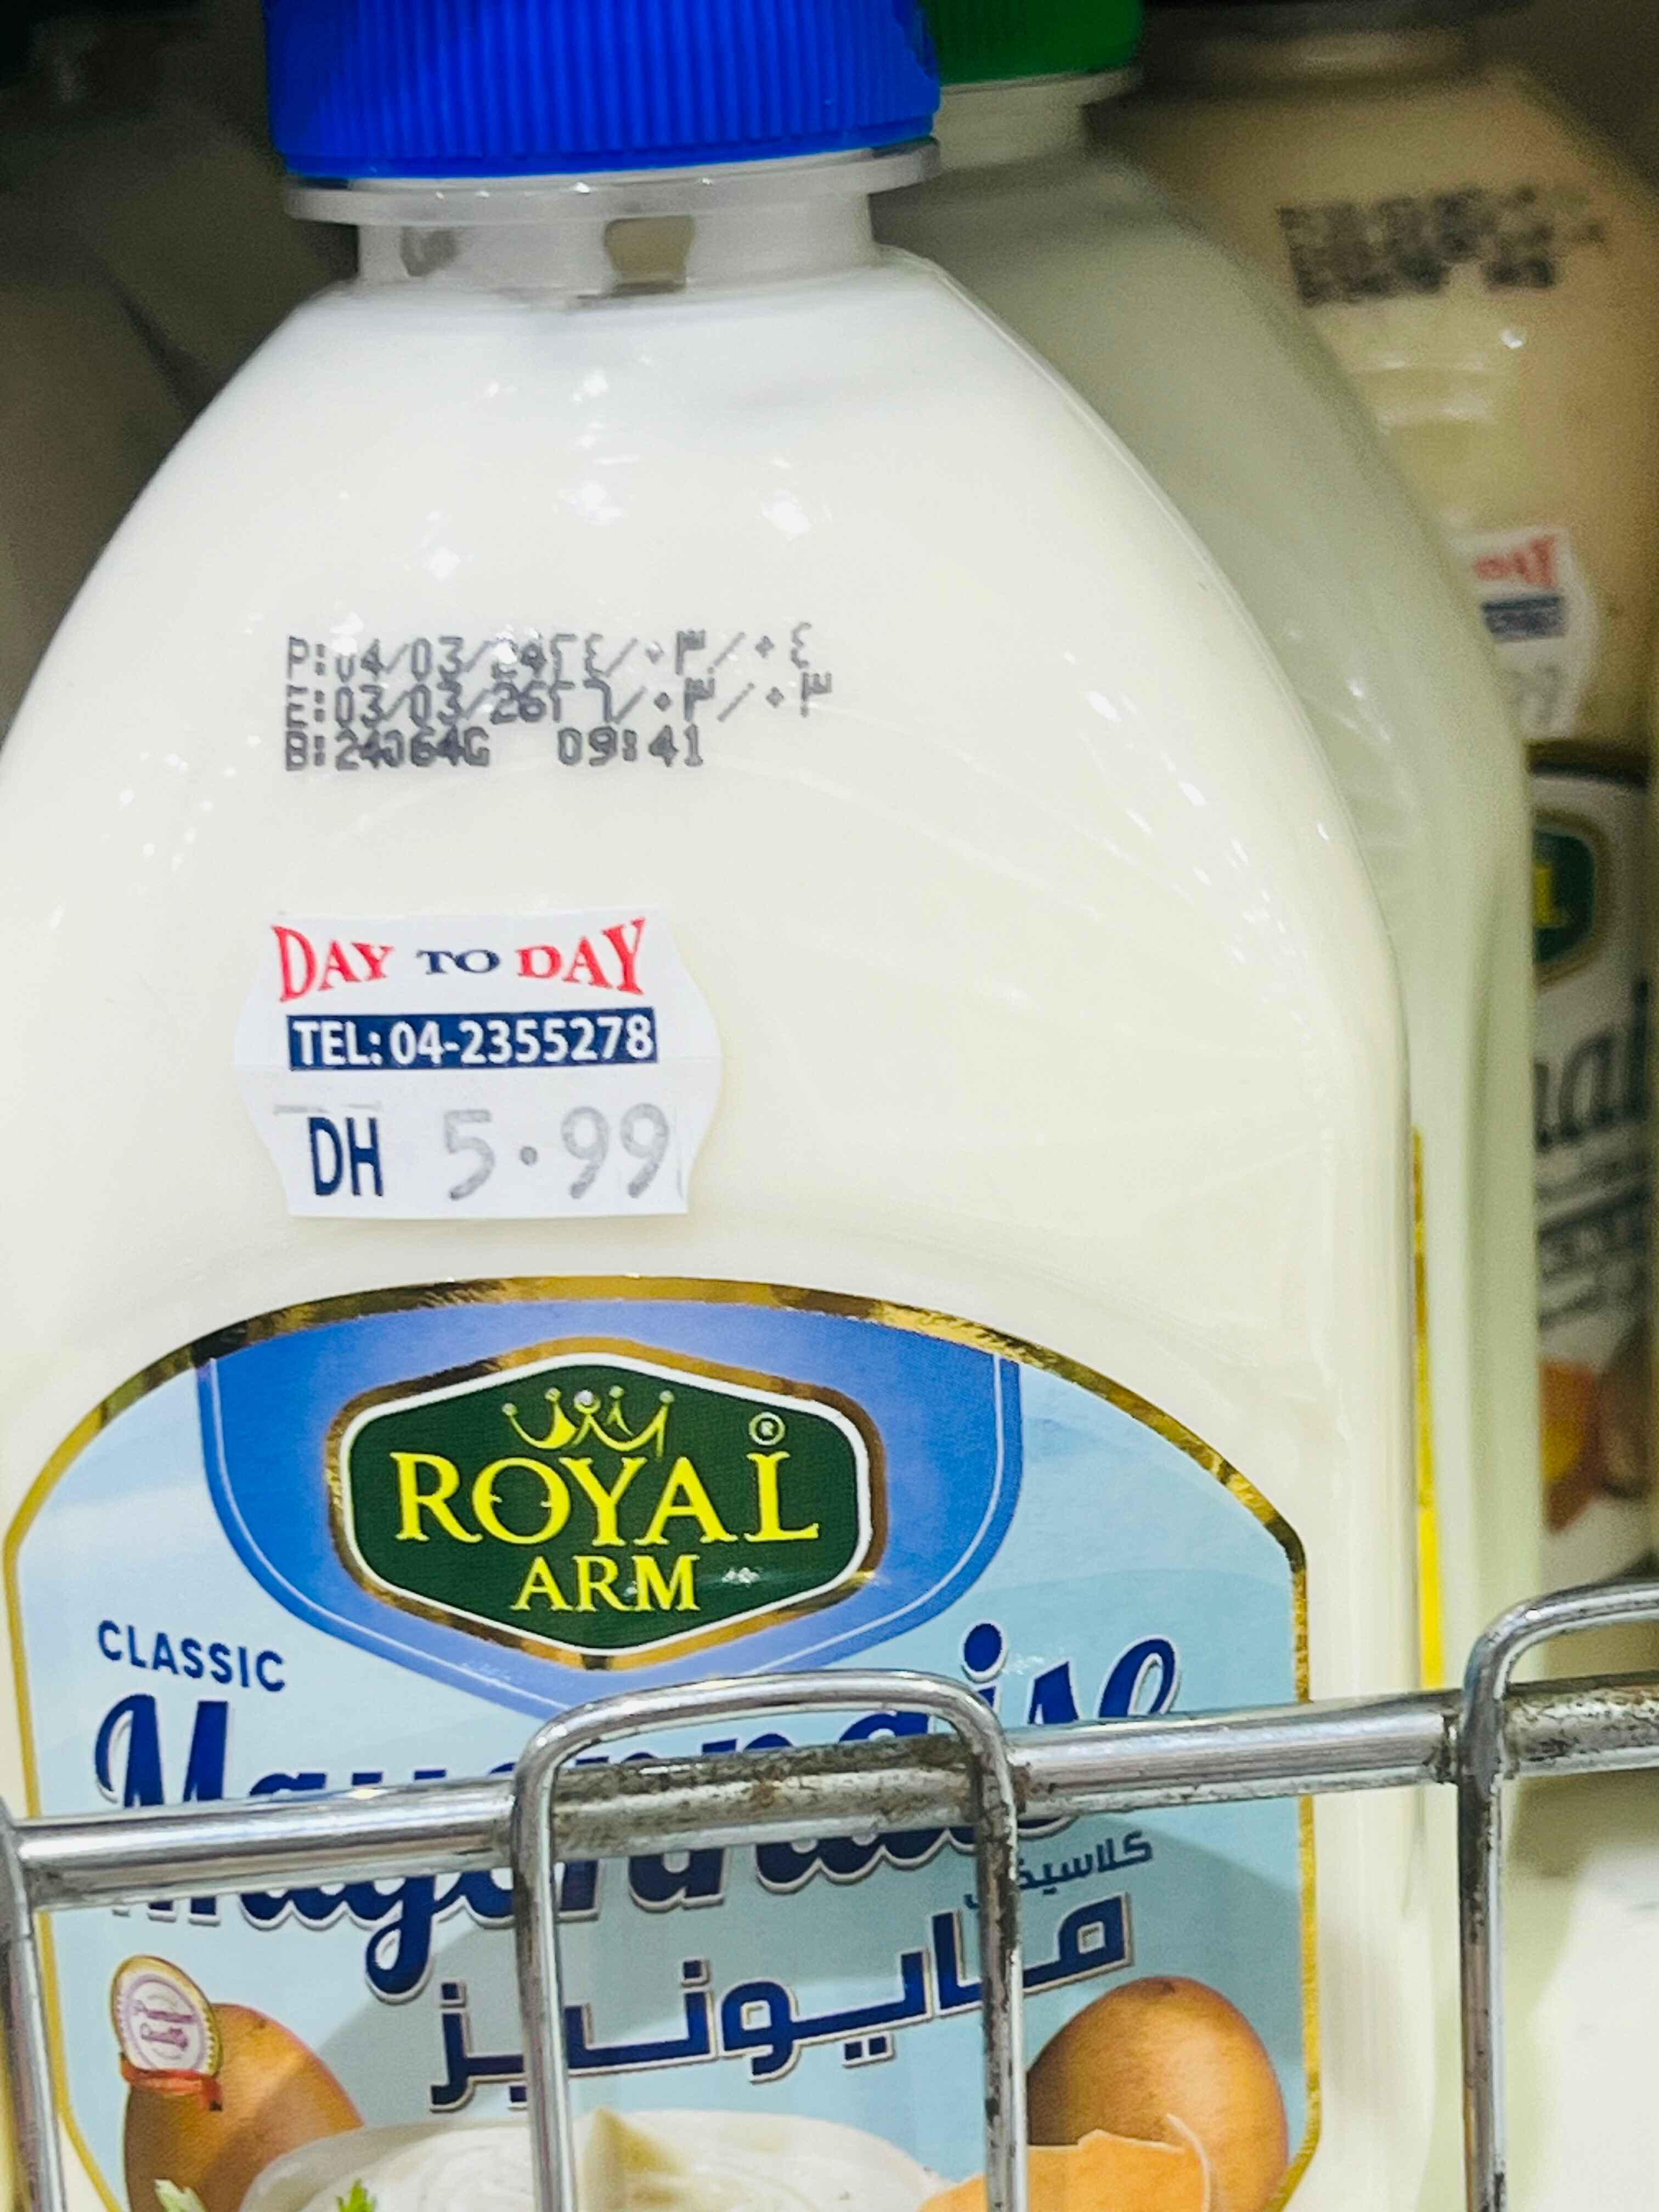PriceTagSmall: (261, 914, 728, 1226), (1438, 529, 1614, 742)
